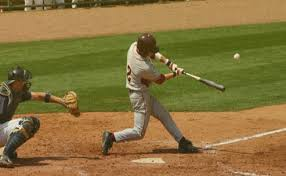baseball: (231, 51, 242, 62)
baseball bat: (175, 67, 225, 92)
baseball player: (99, 31, 226, 155), (1, 63, 81, 169)
